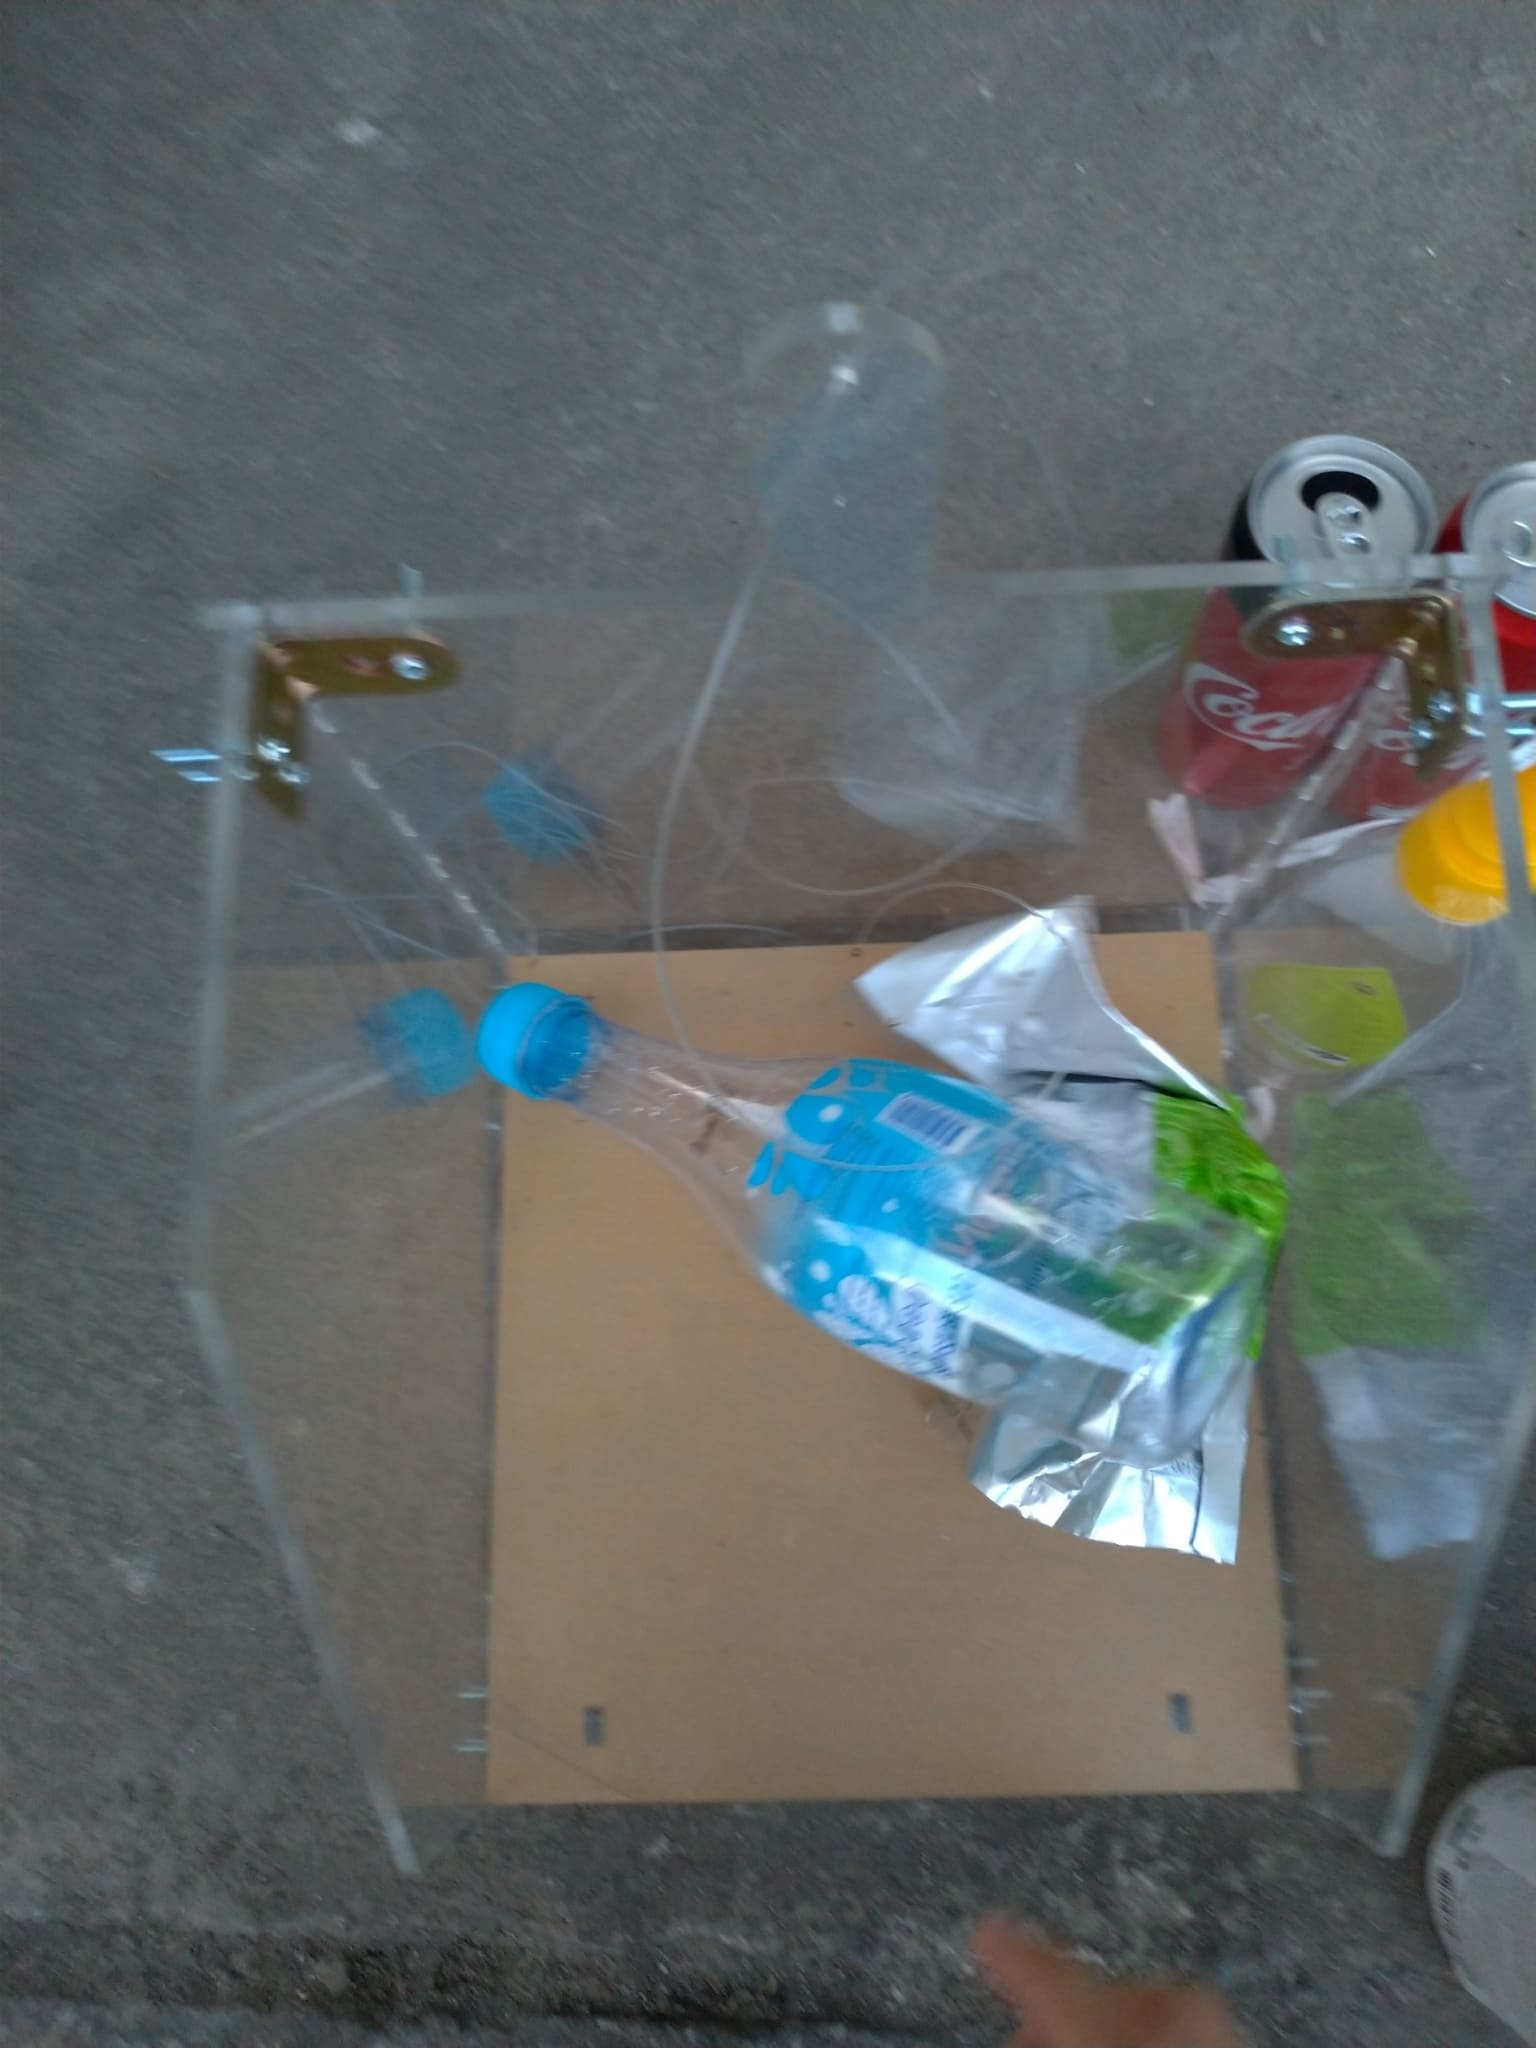AlCan: (1154, 434, 1417, 805), (1421, 445, 1536, 795)
Others: (874, 898, 1267, 1561)
PlasticBottle: (466, 980, 1263, 1445), (1207, 768, 1536, 1100)
